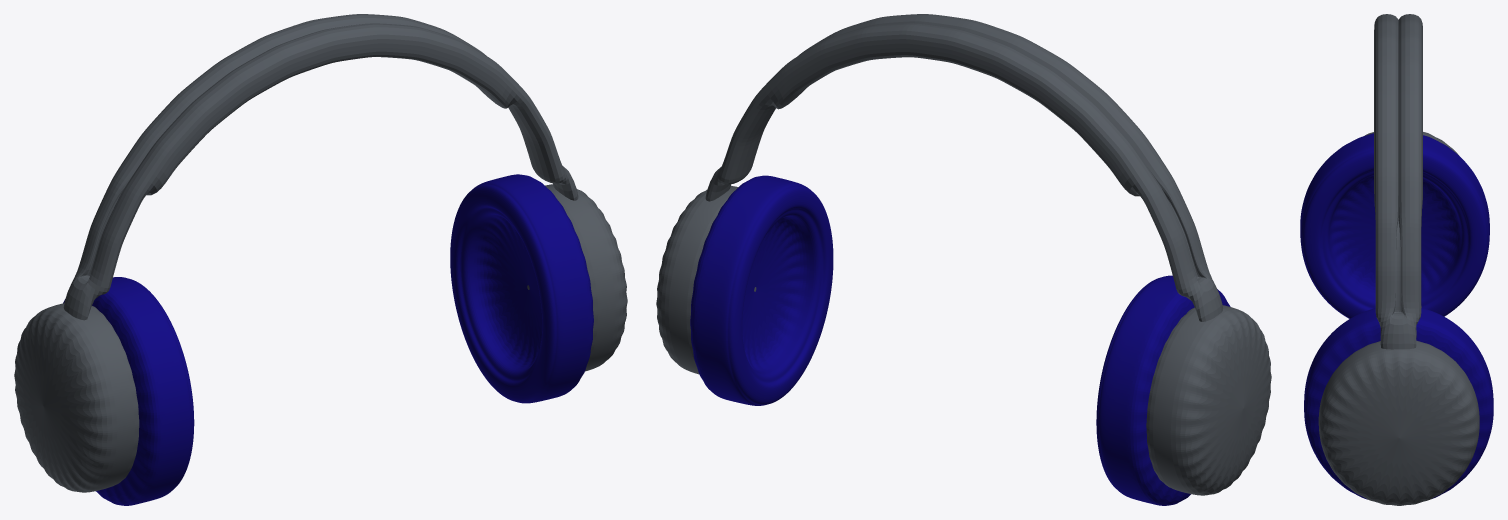
File: headphone.fbx
3 renders of one model, left to right at view 1: azimuth 30°, elevation 25°; view 2: azimuth 150°, elevation 25°; view 3: azimuth 270°, elevation 25°, orthographic. The views are drawn at different scales.
Parts seen in each view (by area): view 1: Cylinder; view 2: Cylinder; view 3: Cylinder.
Part boxes in pixels (x1=…): Cylinder: x1=14, y1=14, x2=627, y2=505; Cylinder: x1=656, y1=14, x2=1271, y2=505; Cylinder: x1=1300, y1=14, x2=1493, y2=505.
Bounding box in the file's own units: 3.55 × 2.56 × 1.19.
